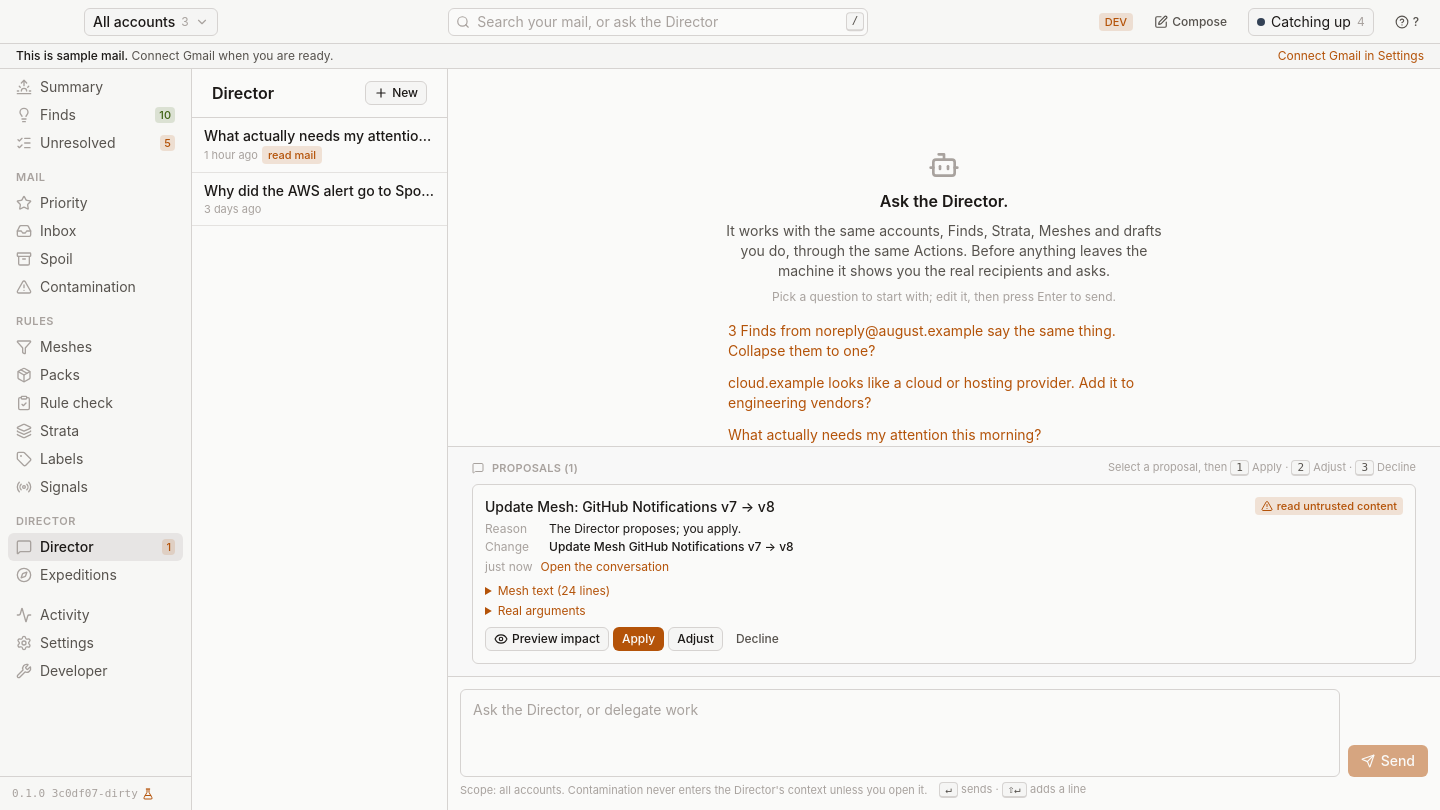
it: the Director page › declines through dismiss_pending with the reason typed in place, and the proposal is gone for good
Click the button "Decline".
click(757, 639)  # box top-left (727, 627), bottom-right (788, 651)
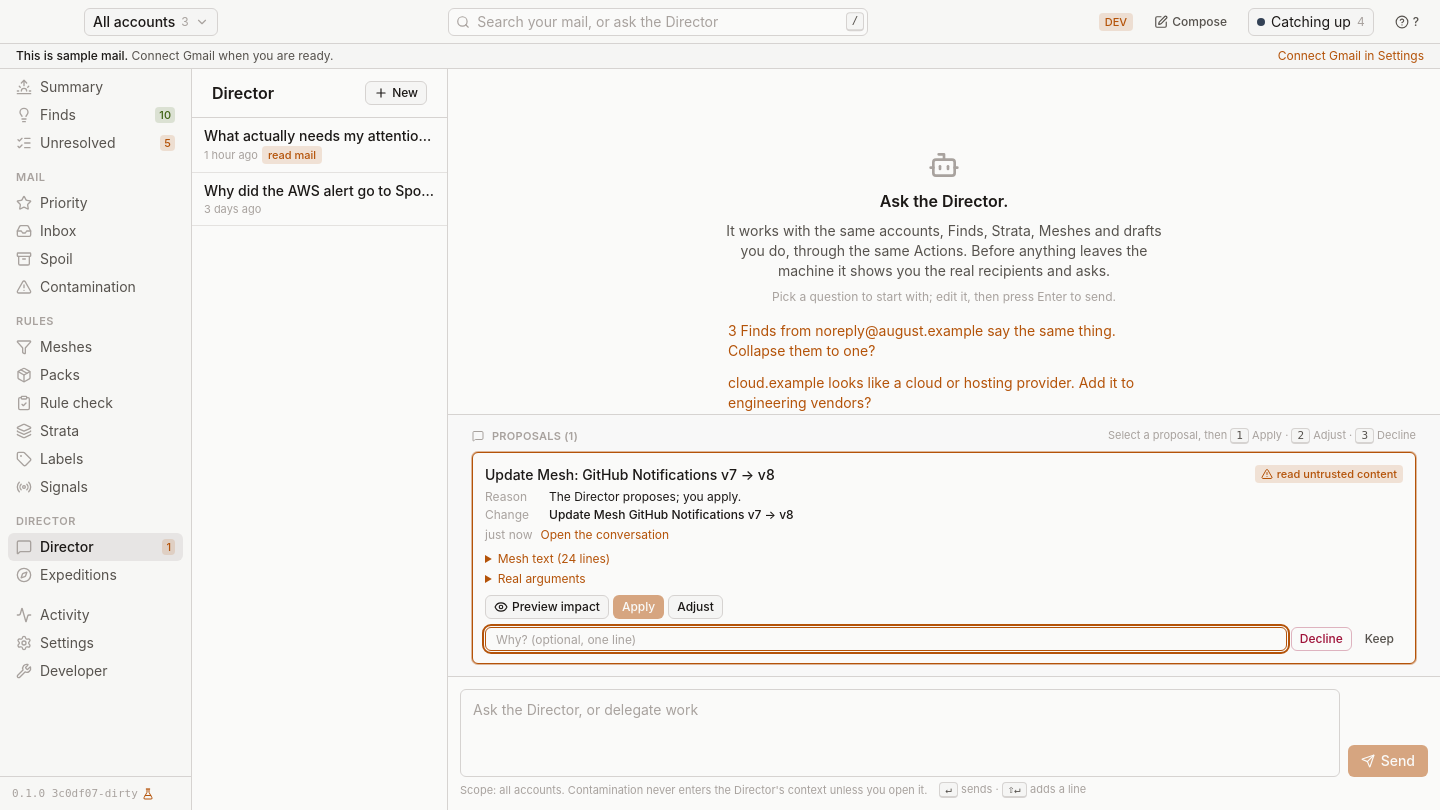
Type "Too broad" into the field named "Reason for declining".
click(886, 639); type("Too broad")  # box top-left (485, 627), bottom-right (1287, 651)
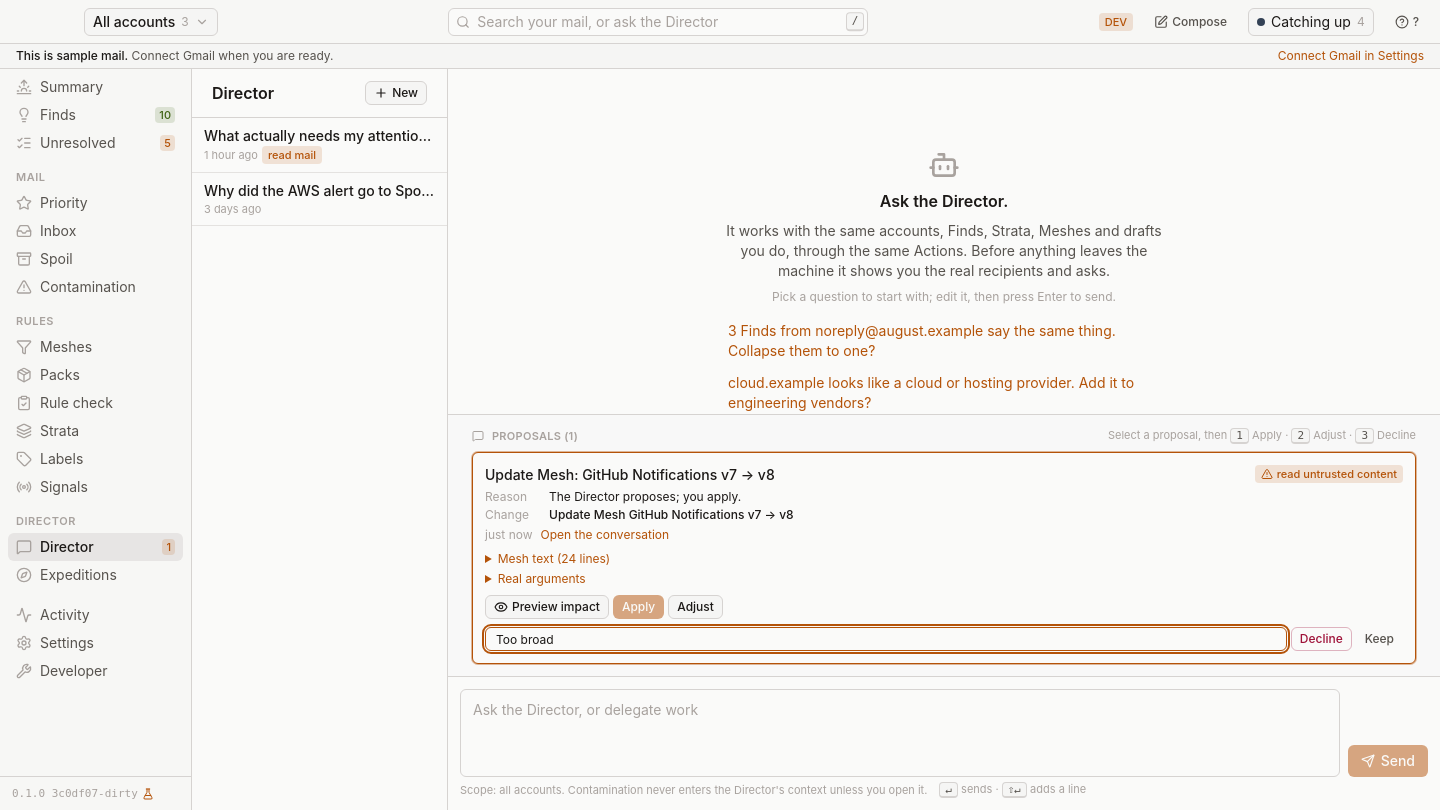
Press Enter in the field named "Reason for declining", box top-left (485, 627), bottom-right (1287, 651)
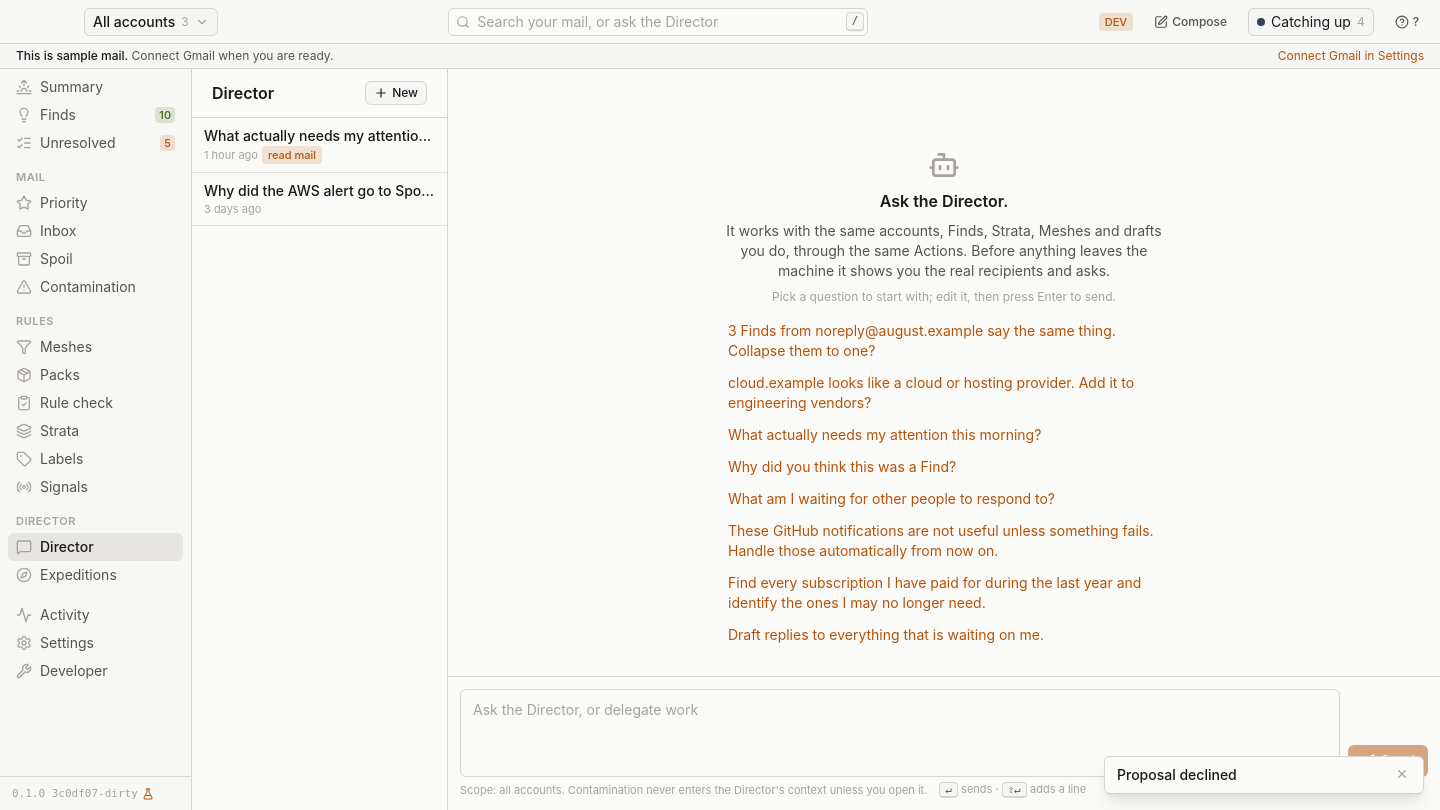
Expected: the element "Proposals" is gone
